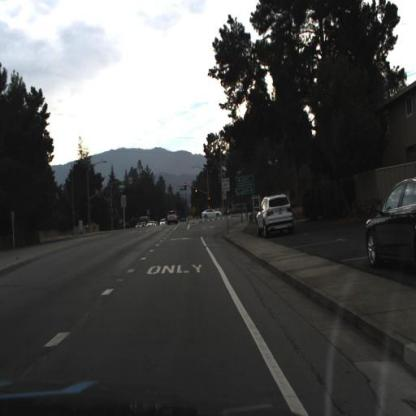car: (365, 180, 416, 271), (257, 196, 293, 236), (229, 202, 248, 219), (202, 209, 222, 222), (168, 210, 178, 225)
